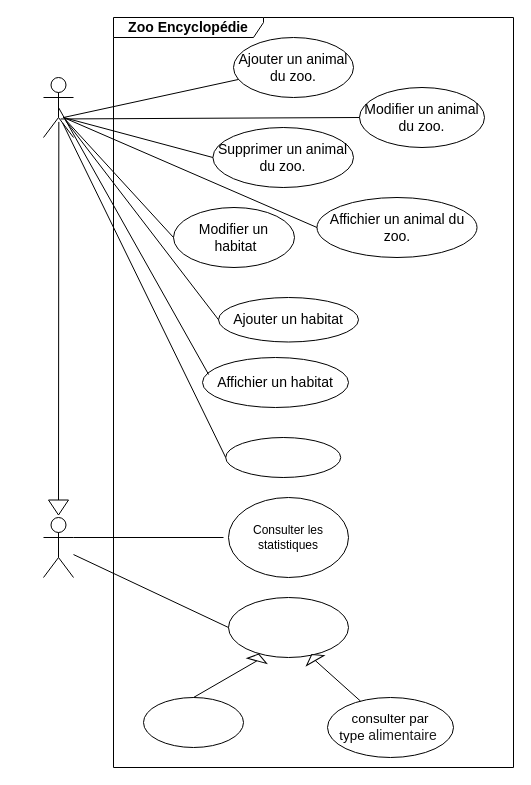
This 531x785 diagram has some shape labels left out. The centre of each missing label's shape, as x and y in pixels:
Consulter les animeaux: (x=288, y=627)
consulter par habitat: (x=193, y=722)
Enfant: (x=58, y=547)
Enseignant: (x=58, y=107)
supprimer un habitat: (x=283, y=457)
